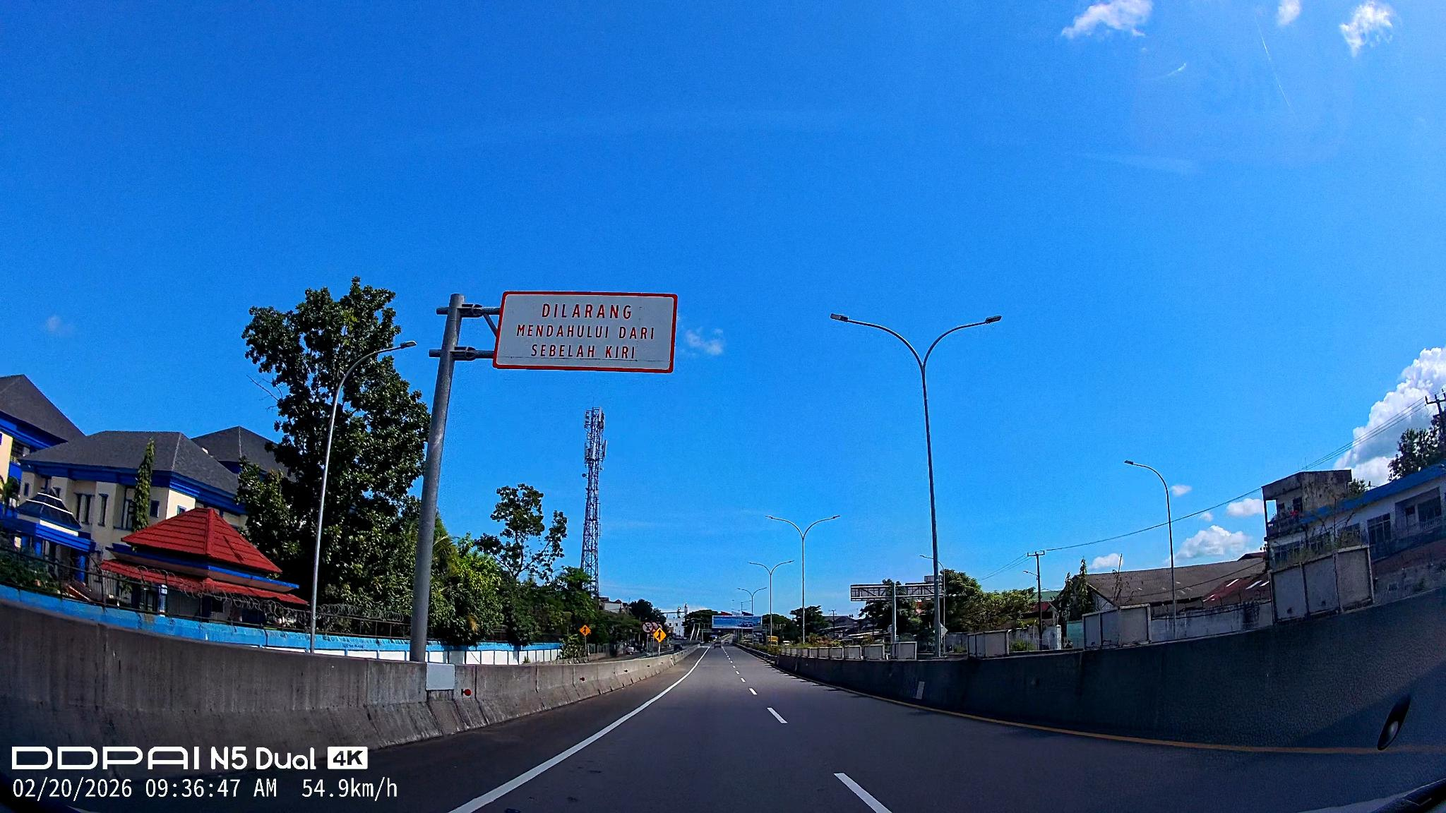rambu_teks: (493, 291, 679, 374)
